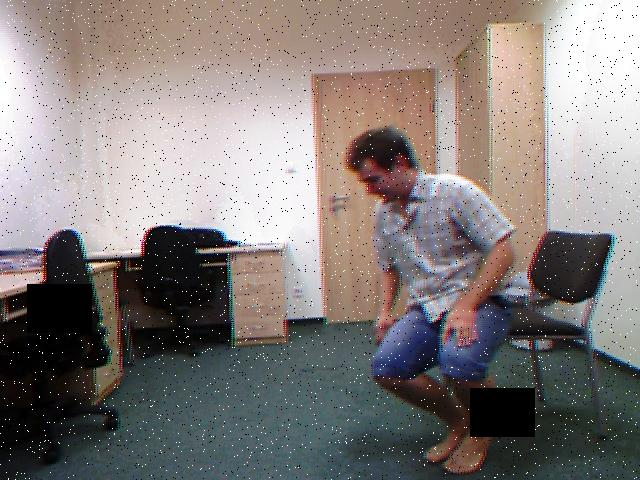near-fall: (329, 114, 531, 480)
